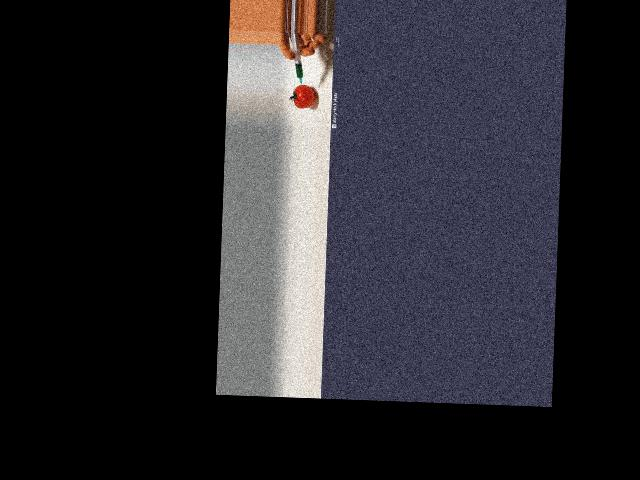tomato: (293, 84, 315, 108)
